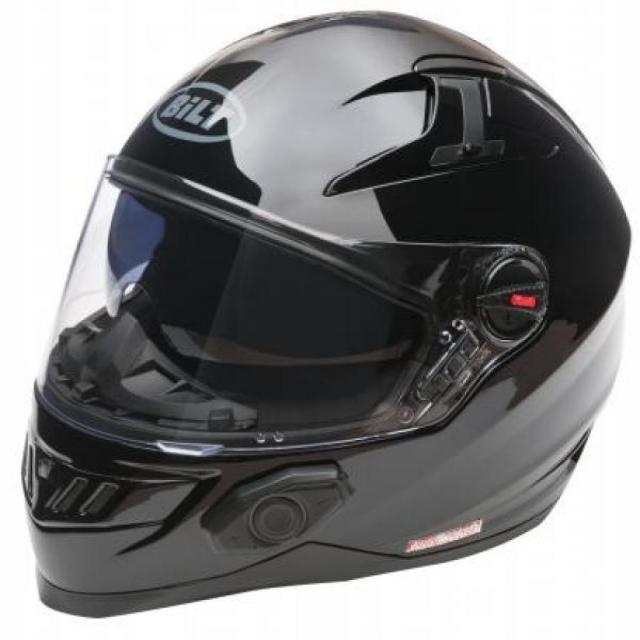Helmet: (37, 15, 625, 554)
